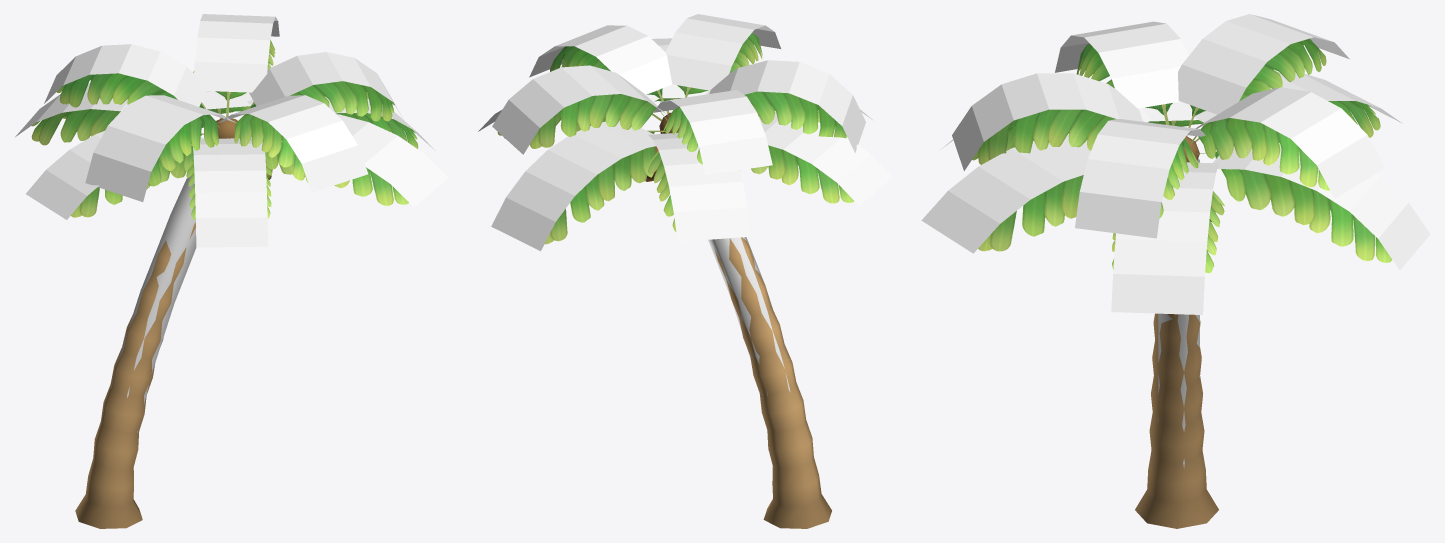
The model's file is tree-palm-lean.glb.
3 renders of one model, left to right at view 1: azimuth 30°, elevation 25°; view 2: azimuth 150°, elevation 25°; view 3: azimuth 270°, elevation 25°, orthographic. The views are drawn at different scales.
Parts seen in each view (by area): view 1: Hull, Fronds, Trunk, Stem; view 2: Hull, Fronds, Trunk, Stem; view 3: Hull, Fronds, Trunk, Stem.
Part boxes in pixels (x1=…): Hull: x1=15, y1=14, x2=448, y2=247; Fronds: x1=31, y1=40, x2=418, y2=219; Trunk: x1=75, y1=118, x2=272, y2=528; Stem: x1=110, y1=175, x2=196, y2=432; Hull: x1=478, y1=14, x2=892, y2=251; Fronds: x1=497, y1=33, x2=853, y2=244; Trunk: x1=645, y1=112, x2=831, y2=528; Stem: x1=708, y1=237, x2=790, y2=395; Hull: x1=921, y1=14, x2=1430, y2=314; Fronds: x1=972, y1=38, x2=1392, y2=273; Trunk: x1=1135, y1=136, x2=1218, y2=528; Stem: x1=1158, y1=158, x2=1199, y2=468.
Bounding box in the file's own units: 4.57 × 4.88 × 4.43.
Materials: 4 (1 with a texture image).
